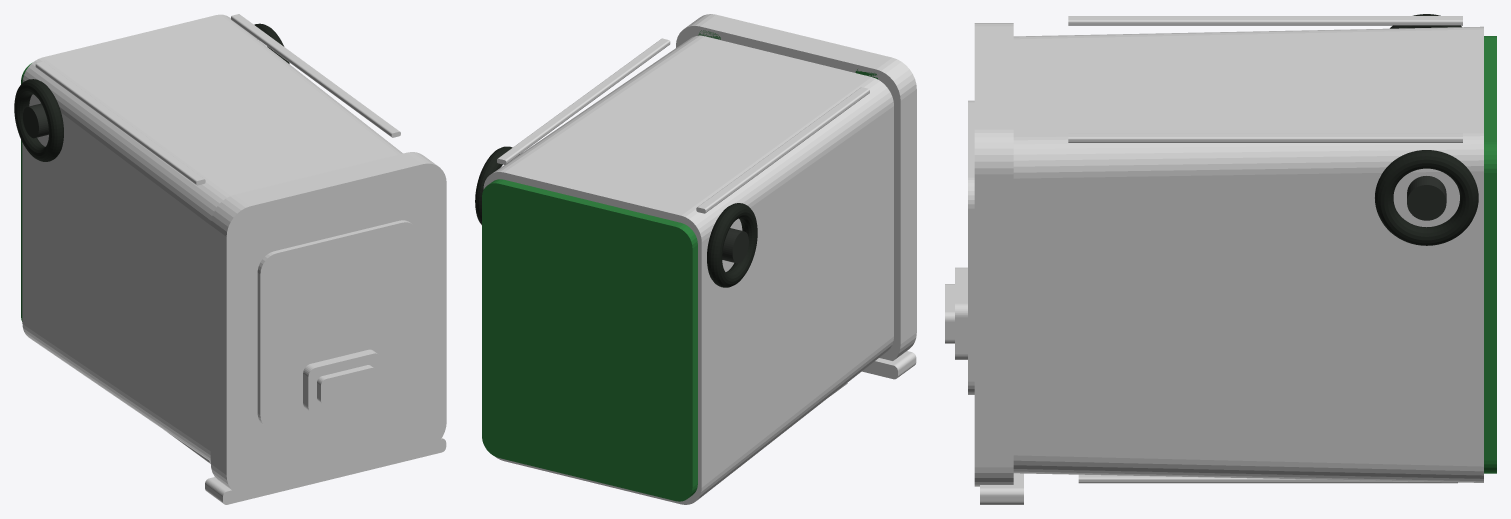
File: trashbuddy_wheelie_bin.glb
The picture shows the model from 3 angles, left to right: view 1: azimuth 30°, elevation 25°; view 2: azimuth 150°, elevation 25°; view 3: azimuth 270°, elevation 25°; orthographic projection. The views are drawn at different scales.
Parts seen in each view (by area): view 1: Bin_Body, Lid, Wheel_L, Wheel_Hub_L; view 2: Bin_Body, Lower_Foot_Lip, Lid, Wheel_L, Wheel_Hub_L, Wheel_R; view 3: Bin_Body, Lid, Lower_Foot_Lip, Wheel_R, Wheel_Hub_R.
Boxes of the visible parts, x1,y1,x2,y2 form: Bin_Body: (22,14,402,463); Lid: (205,152,446,504); Wheel_L: (14,79,63,161); Wheel_Hub_L: (23,103,48,138); Bin_Body: (483,35,893,504); Lower_Foot_Lip: (482,179,697,501); Lid: (676,14,916,379); Wheel_L: (707,203,757,287); Wheel_Hub_L: (722,228,748,263); Wheel_R: (475,146,519,224); Bin_Body: (1013,16,1483,483); Lid: (945,23,1023,504); Lower_Foot_Lip: (1484,36,1496,473); Wheel_R: (1375,150,1478,245); Wheel_Hub_R: (1407,176,1446,220).
Size of what is drawn, in the model's own units: 0.664 by 0.7719 by 1.06.
